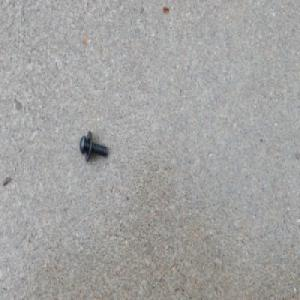BoltWasher: (79, 131, 108, 165)
